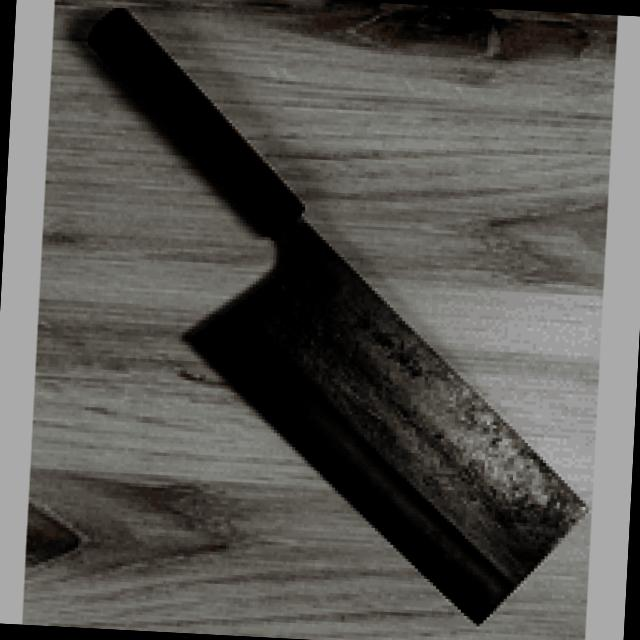cleaver: (63, 5, 610, 624)
